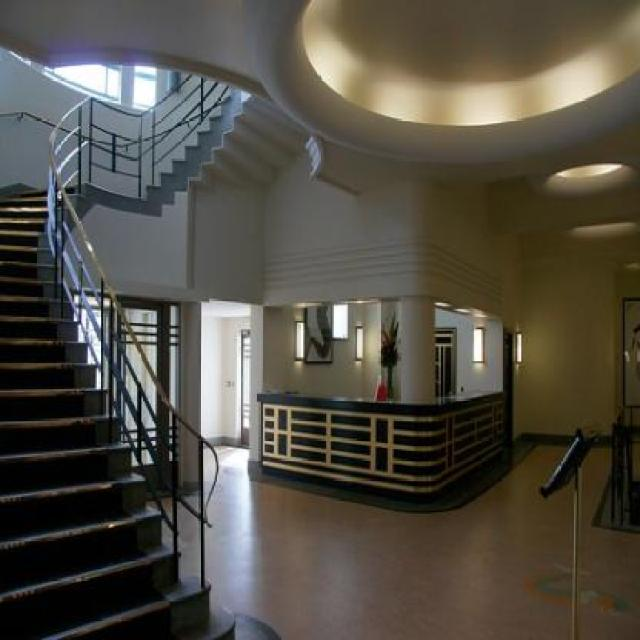stair: (2, 374, 226, 640)
